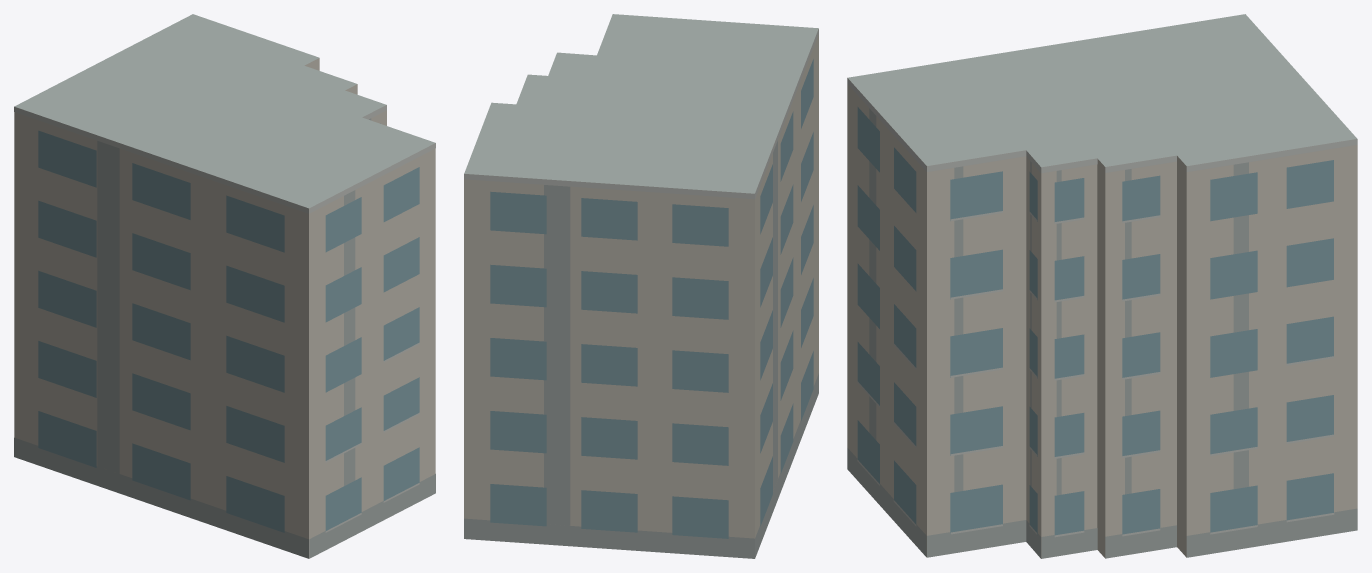
The model's file is survey-upis-32998984.glb.
3 views of the same model, side by side, from view 1: azimuth 30°, elevation 25°; view 2: azimuth 150°, elevation 25°; view 3: azimuth 270°, elevation 25° (orthographic). The views are drawn at different scales.
Visible parts, largest first — view 1: survey-upis-32998984.tmp; view 2: survey-upis-32998984.tmp; view 3: survey-upis-32998984.tmp.
Part boxes in pixels (bbox=[...]): survey-upis-32998984.tmp: bbox=[14, 14, 435, 558]; survey-upis-32998984.tmp: bbox=[464, 14, 818, 558]; survey-upis-32998984.tmp: bbox=[847, 14, 1357, 558].
Bounding box in the file's own units: 13.37 × 15.9 × 18.78.
